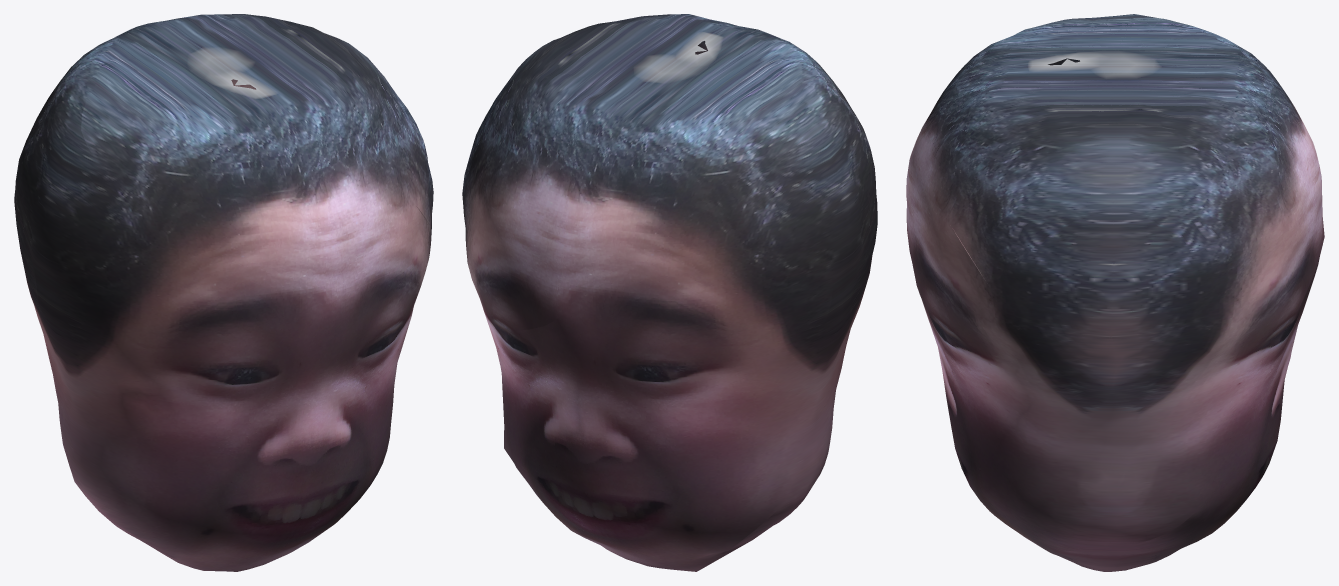
Rendered from untitleed.fbx.
3 views of the same model, side by side, from view 1: azimuth 30°, elevation 25°; view 2: azimuth 150°, elevation 25°; view 3: azimuth 270°, elevation 25° (orthographic).
Parts seen in each view (by area): view 1: model_791964569054; view 2: model_791964569054; view 3: model_791964569054.
Boxes of the visible parts, x1,y1,x2,y2 form: model_791964569054: (14, 14, 433, 571); model_791964569054: (462, 14, 877, 571); model_791964569054: (906, 14, 1324, 571).
Size of the model in its own units: 81.48 by 107 by 81.85.
